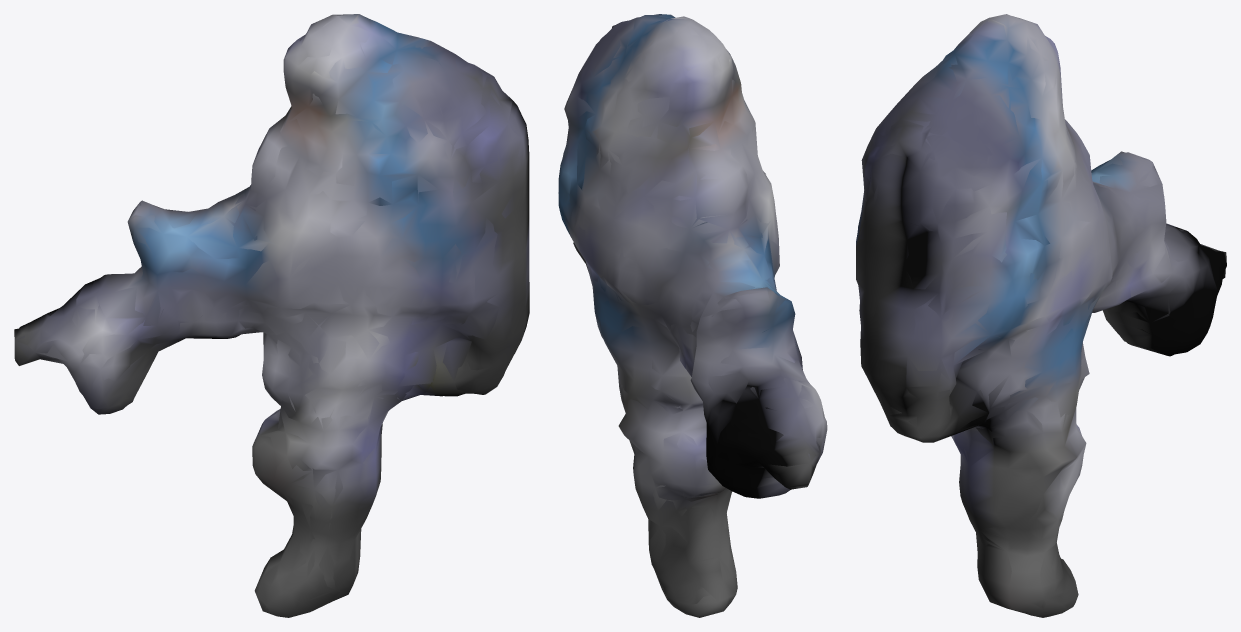
The model's file is chrono_legionnaire.glb.
3 renders of one model, left to right at view 1: azimuth 30°, elevation 25°; view 2: azimuth 150°, elevation 25°; view 3: azimuth 270°, elevation 25°, orthographic. The views are drawn at different scales.
Visible parts, largest first — view 1: chrono_legionnaire; view 2: chrono_legionnaire; view 3: chrono_legionnaire.
Boxes of the visible parts, bbox=[...] form: chrono_legionnaire: bbox=[14, 14, 529, 617]; chrono_legionnaire: bbox=[558, 14, 827, 617]; chrono_legionnaire: bbox=[856, 14, 1226, 617].
Bounding box in the file's own units: 1.46 × 2.23 × 1.22.
